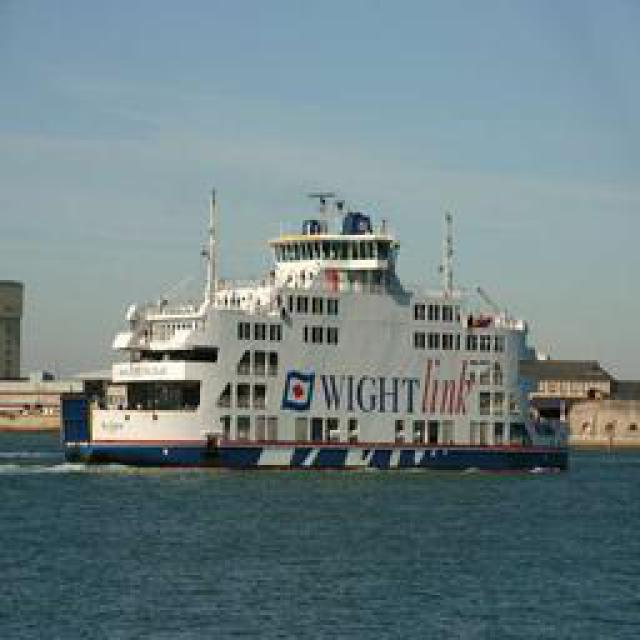Ship: (40, 188, 578, 473)
